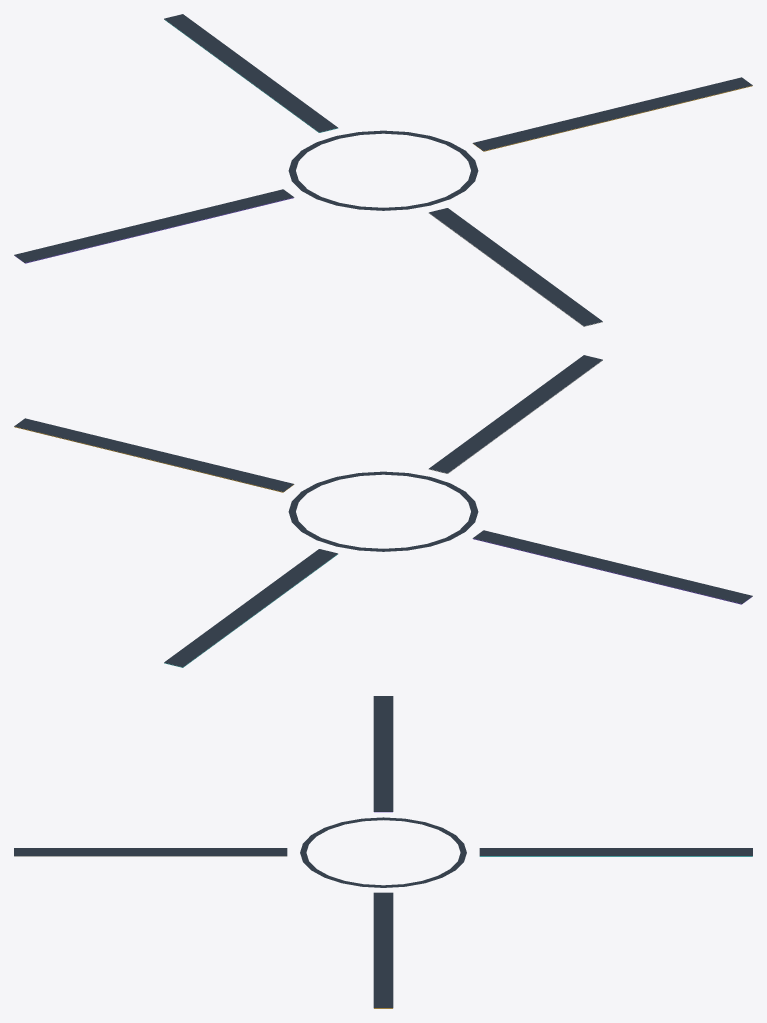
File: faixas_chao.glb
3 renders of one model, top to bottom at view 1: azimuth 30°, elevation 25°; view 2: azimuth 150°, elevation 25°; view 3: azimuth 270°, elevation 25°, orthographic. The views are drawn at different scales.
Parts seen in each view (by area): view 1: faixa_oficina_apagada_malha, faixa_treinamento_apagada_malha, faixa_ponte_apagada_malha, faixa_portal_apagada_malha, inicio; view 2: faixa_oficina_apagada_malha, faixa_treinamento_apagada_malha, faixa_ponte_apagada_malha, faixa_portal_apagada_malha, inicio; view 3: faixa_ponte_apagada_malha, faixa_portal_apagada_malha, faixa_oficina_apagada_malha, faixa_treinamento_apagada_malha, inicio.
Boxes of the visible parts, x1,y1,x2,y2 form: faixa_oficina_apagada_malha: (472, 77, 752, 151); faixa_treinamento_apagada_malha: (14, 189, 294, 263); faixa_ponte_apagada_malha: (164, 14, 337, 132); faixa_portal_apagada_malha: (429, 208, 602, 326); inicio: (288, 130, 478, 210); faixa_oficina_apagada_malha: (14, 418, 294, 492); faixa_treinamento_apagada_malha: (472, 530, 752, 604); faixa_ponte_apagada_malha: (164, 549, 337, 667); faixa_portal_apagada_malha: (429, 355, 602, 473); inicio: (288, 471, 478, 551); faixa_ponte_apagada_malha: (479, 848, 752, 856); faixa_portal_apagada_malha: (14, 848, 287, 856); faixa_oficina_apagada_malha: (373, 892, 393, 1008); faixa_treinamento_apagada_malha: (373, 696, 393, 811); inicio: (300, 817, 466, 887).
Size of the model in its own units: 11.51 by 0.012 by 11.51.
